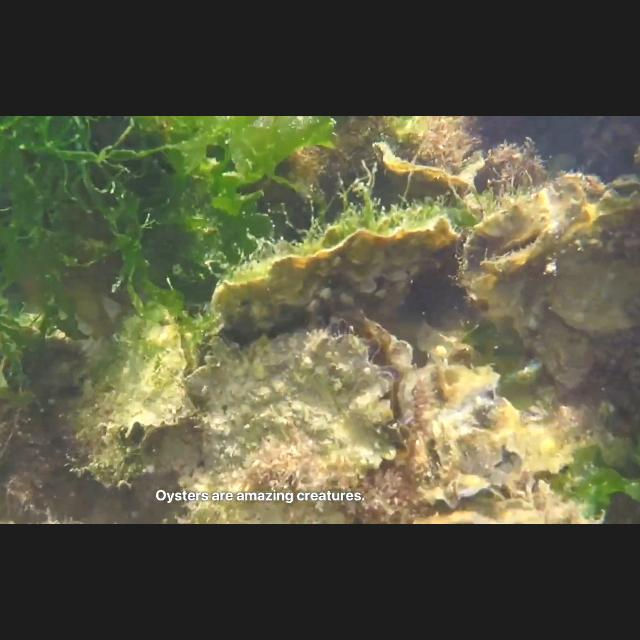Oyster-Closed: (210, 214, 468, 350)
Oyster-Open: (179, 316, 419, 524), (456, 172, 640, 392), (404, 360, 526, 510), (110, 315, 198, 449), (69, 378, 153, 490), (371, 141, 474, 211)
